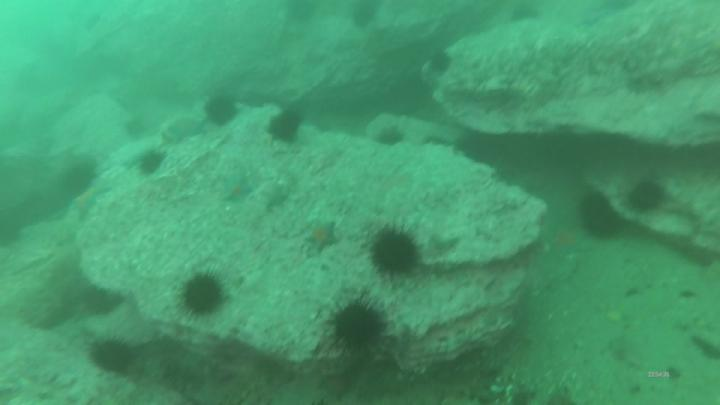echinus: (336, 301, 384, 348), (375, 231, 418, 274), (583, 194, 622, 237), (184, 277, 220, 314), (94, 341, 135, 371), (630, 181, 664, 210), (203, 99, 240, 125), (268, 111, 299, 141), (353, 2, 382, 28), (374, 126, 402, 144), (143, 154, 164, 172), (435, 48, 451, 71)
starfish: (76, 184, 108, 214), (311, 225, 340, 252), (224, 179, 253, 203)
